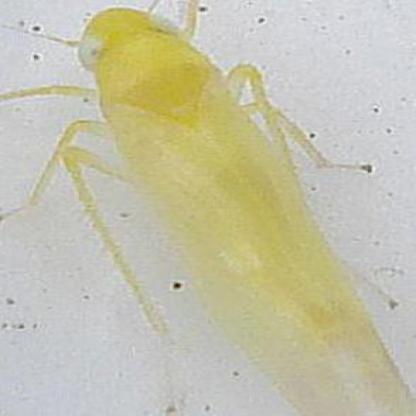green-leafhopper: (75, 11, 409, 413)
